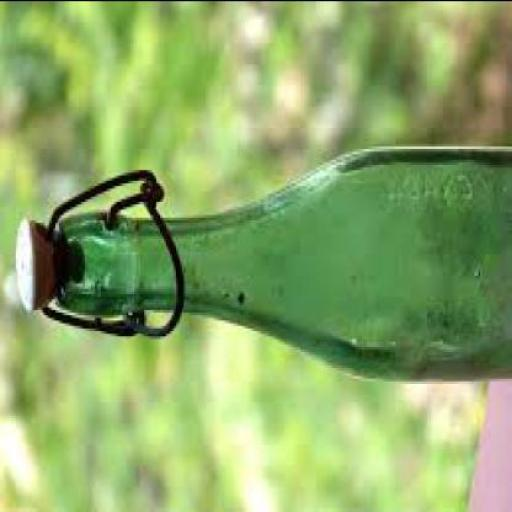glass: (55, 140, 510, 377)
plastic: (12, 214, 67, 312)
